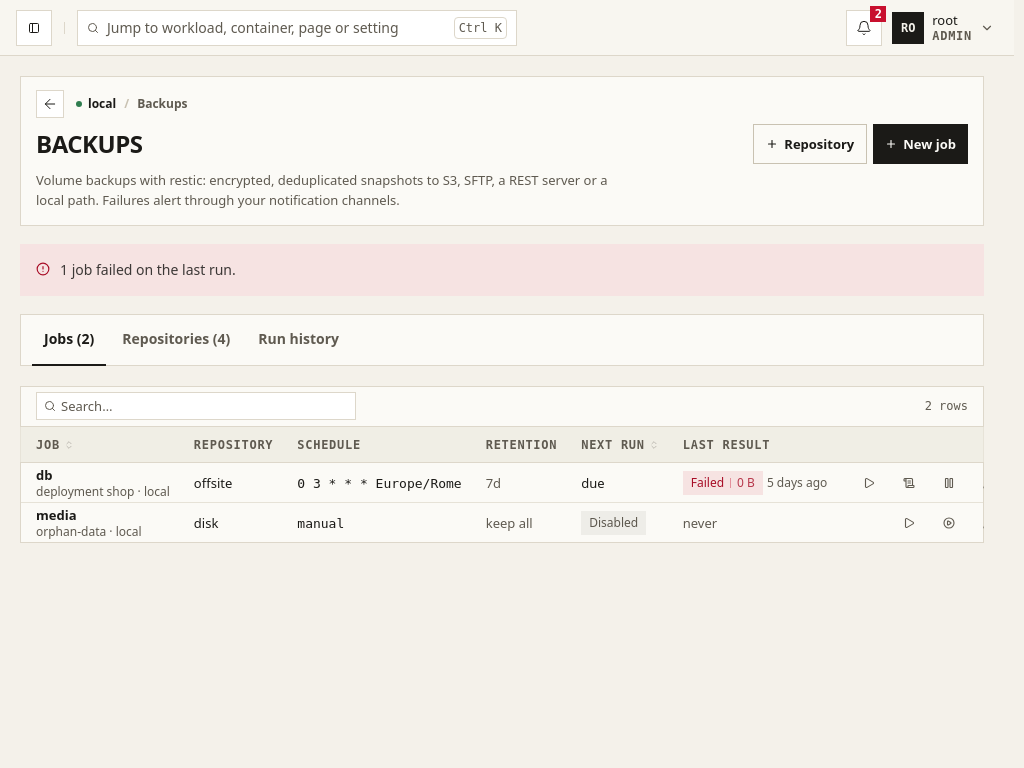
backups page › lists jobs, runs one and opens its log
Check: the text "1 job failed on the last run." is shown, box [60, 260, 236, 279]
Check: the text "never" is shown, box [683, 514, 717, 532]
Click the button named "Back up now" in the row of "db" at (869, 483), box [851, 465, 887, 501]
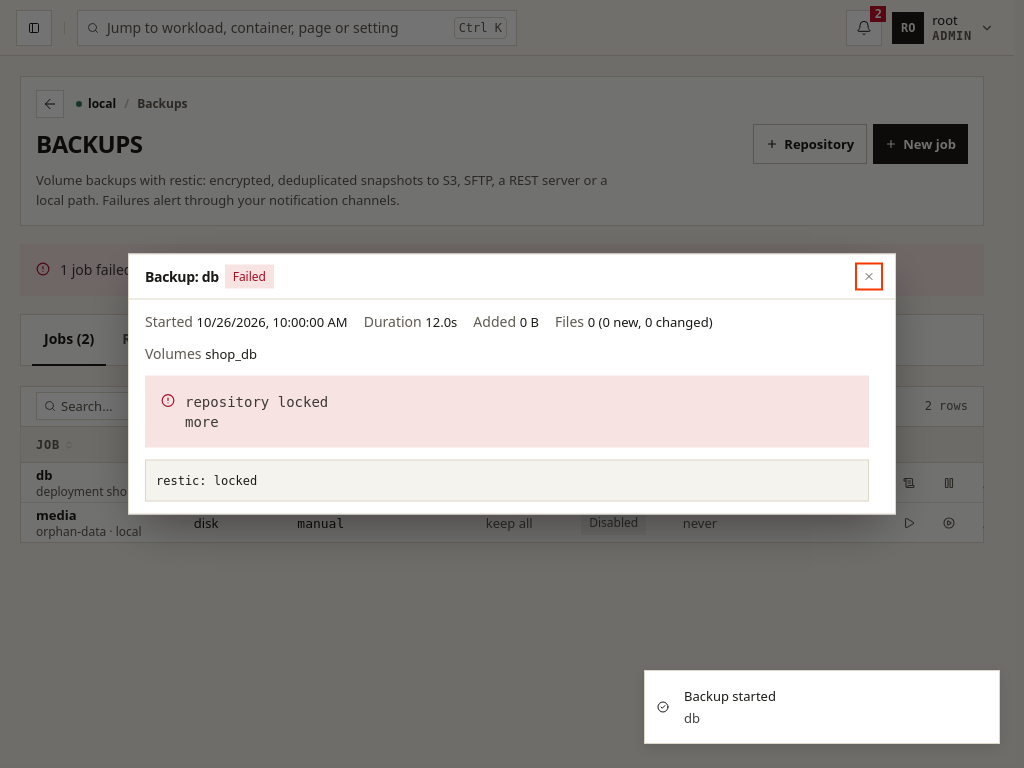
Check: the text "Backup started" is shown, box [684, 687, 776, 707]
Check: the text "restic: locked" is shown, box [156, 474, 257, 488]
